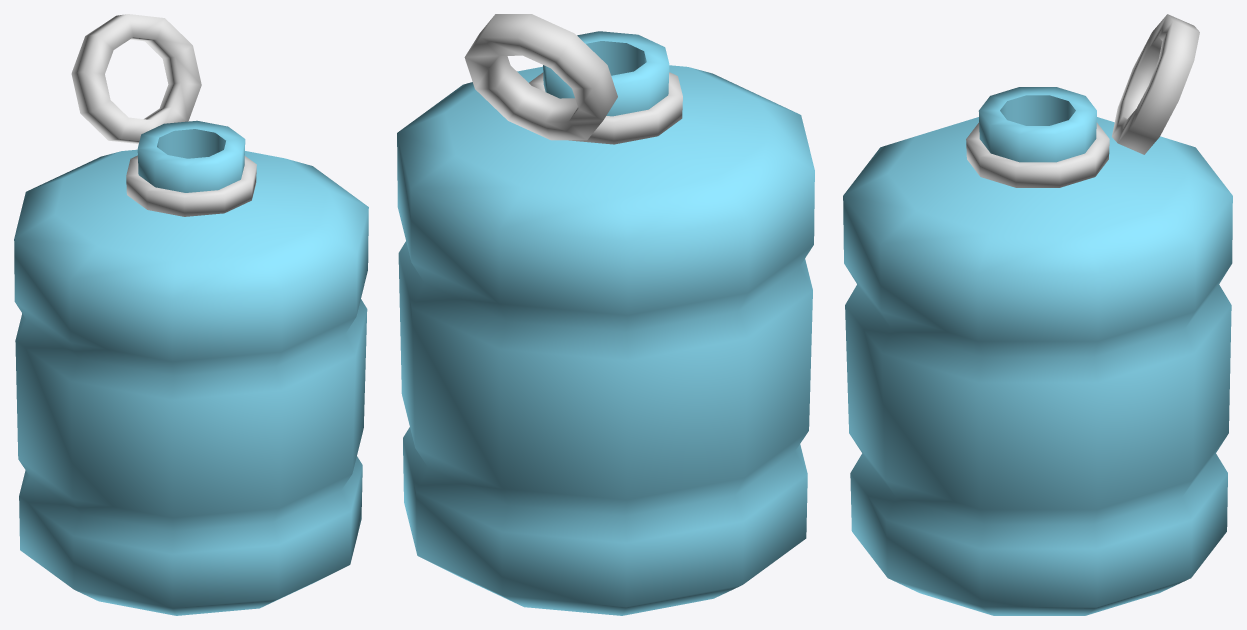
Rendered from BigDunk.fbx.
The picture shows the model from 3 angles, left to right: view 1: azimuth 30°, elevation 25°; view 2: azimuth 150°, elevation 25°; view 3: azimuth 270°, elevation 25°; orthographic projection. The views are drawn at different scales.
Visible parts, largest first — view 1: BigDunkTwist; view 2: BigDunkTwist; view 3: BigDunkTwist.
Boxes of the visible parts, <box> form: BigDunkTwist: <box>14,14,368,615</box>; BigDunkTwist: <box>397,14,814,615</box>; BigDunkTwist: <box>843,14,1232,615</box>.
Size of the model in its own units: 104 by 166 by 109.
